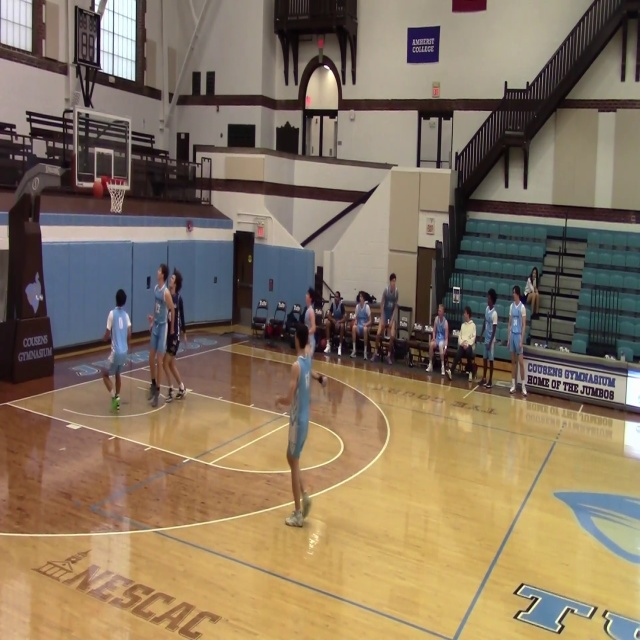Basketball: (93, 178, 104, 198), (319, 375, 326, 384)
